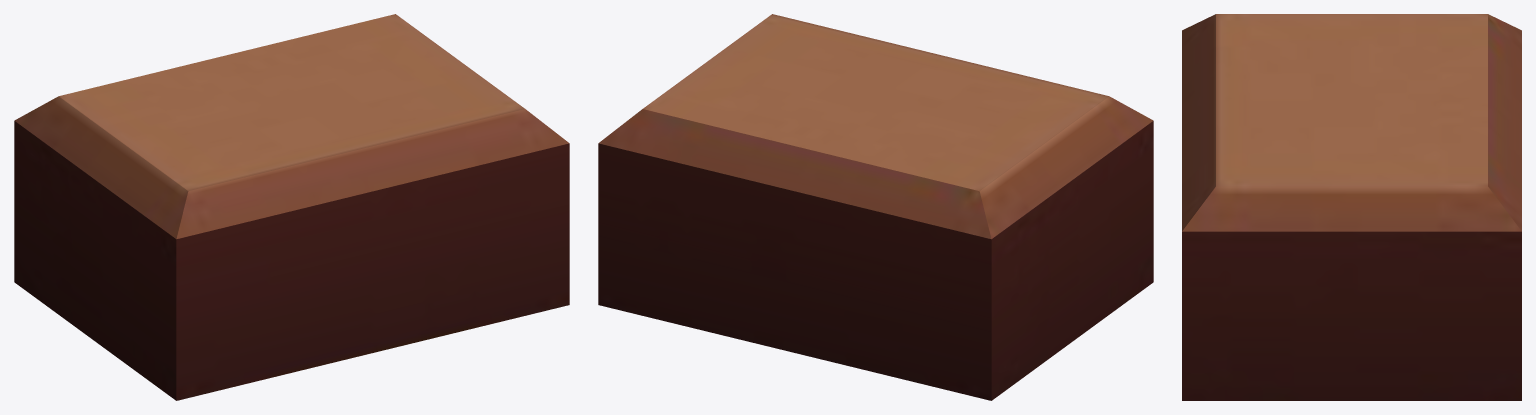
Rendered from heat-exchanger.glb.
The picture shows the model from 3 angles, left to right: view 1: azimuth 30°, elevation 25°; view 2: azimuth 150°, elevation 25°; view 3: azimuth 270°, elevation 25°; orthographic projection. The views are drawn at different scales.
Visible parts, largest first — view 1: heat-exchanger; view 2: heat-exchanger; view 3: heat-exchanger.
Part boxes in pixels (left/top/right/bottom): heat-exchanger: left=14, top=14, right=569, bottom=400; heat-exchanger: left=598, top=14, right=1153, bottom=400; heat-exchanger: left=1182, top=14, right=1521, bottom=400.
Size of the model in its own units: 0.28 by 0.13 by 0.2.
Materials: 1 (1 with a texture image).
